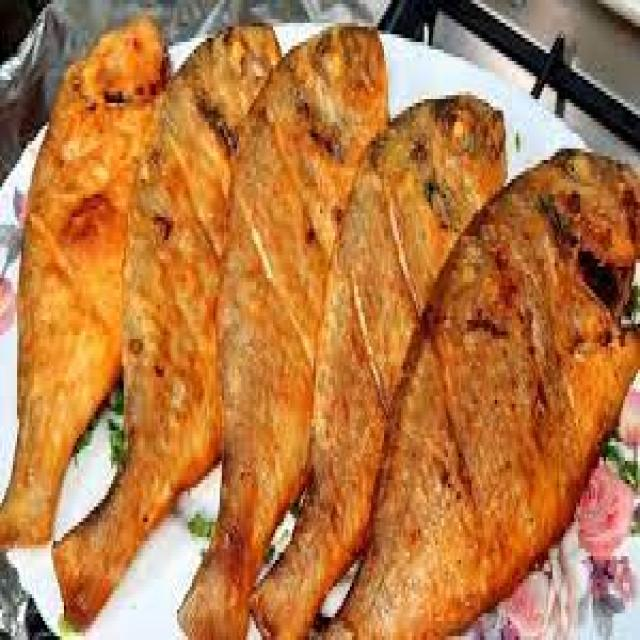Peixe: (2, 12, 636, 632), (316, 145, 638, 636)
